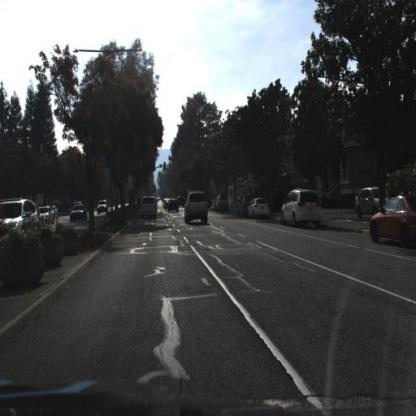car: (370, 197, 416, 250), (1, 198, 43, 242), (281, 189, 324, 228), (355, 187, 397, 222), (183, 191, 212, 231), (249, 196, 272, 219), (140, 195, 158, 222), (237, 195, 253, 221), (39, 207, 55, 229), (216, 193, 231, 214), (70, 206, 88, 223), (97, 197, 110, 218), (166, 198, 180, 215), (53, 204, 62, 225), (177, 195, 187, 207)
